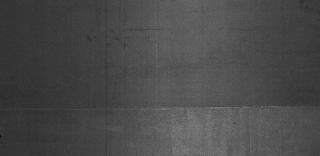welding line: (1, 104, 320, 114)
